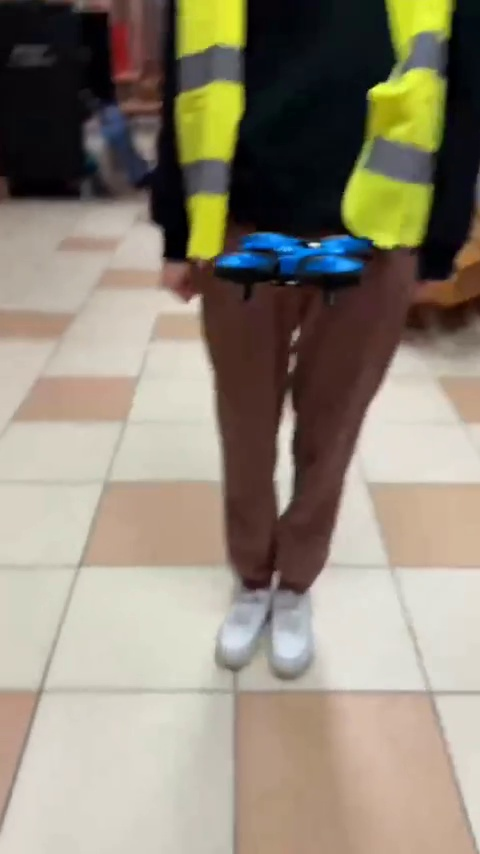drone: (221, 234, 370, 303)
vest: (156, 60, 474, 671)
